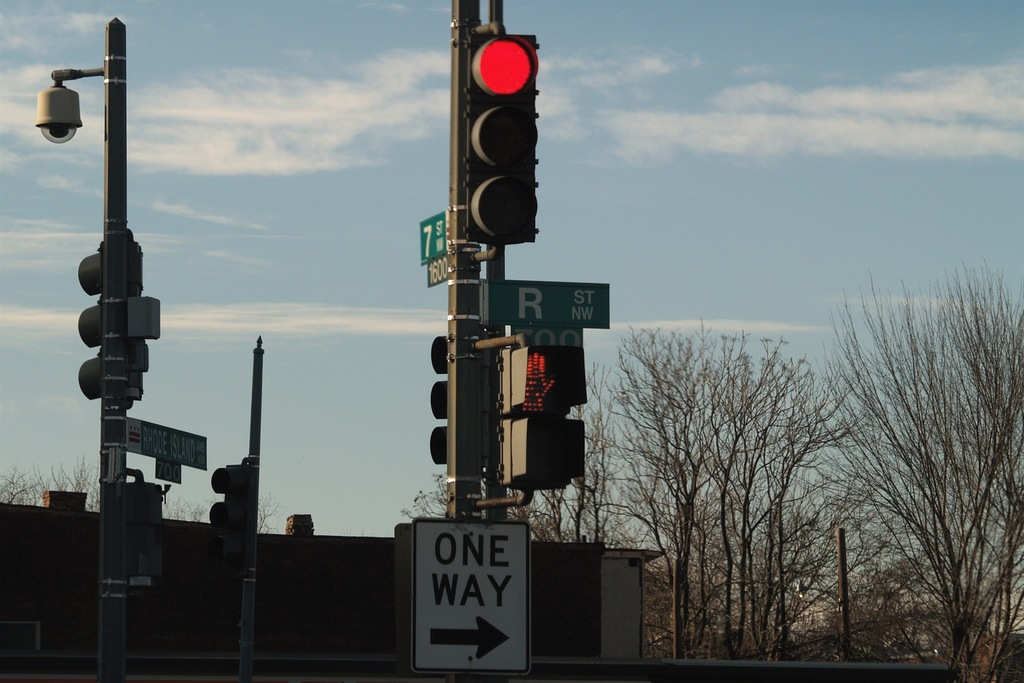one_way: (410, 517, 533, 672)
red_light: (471, 36, 539, 95)
